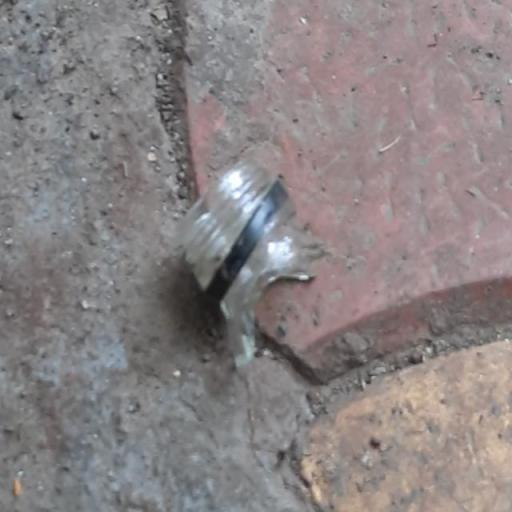glass: (154, 126, 346, 390)
